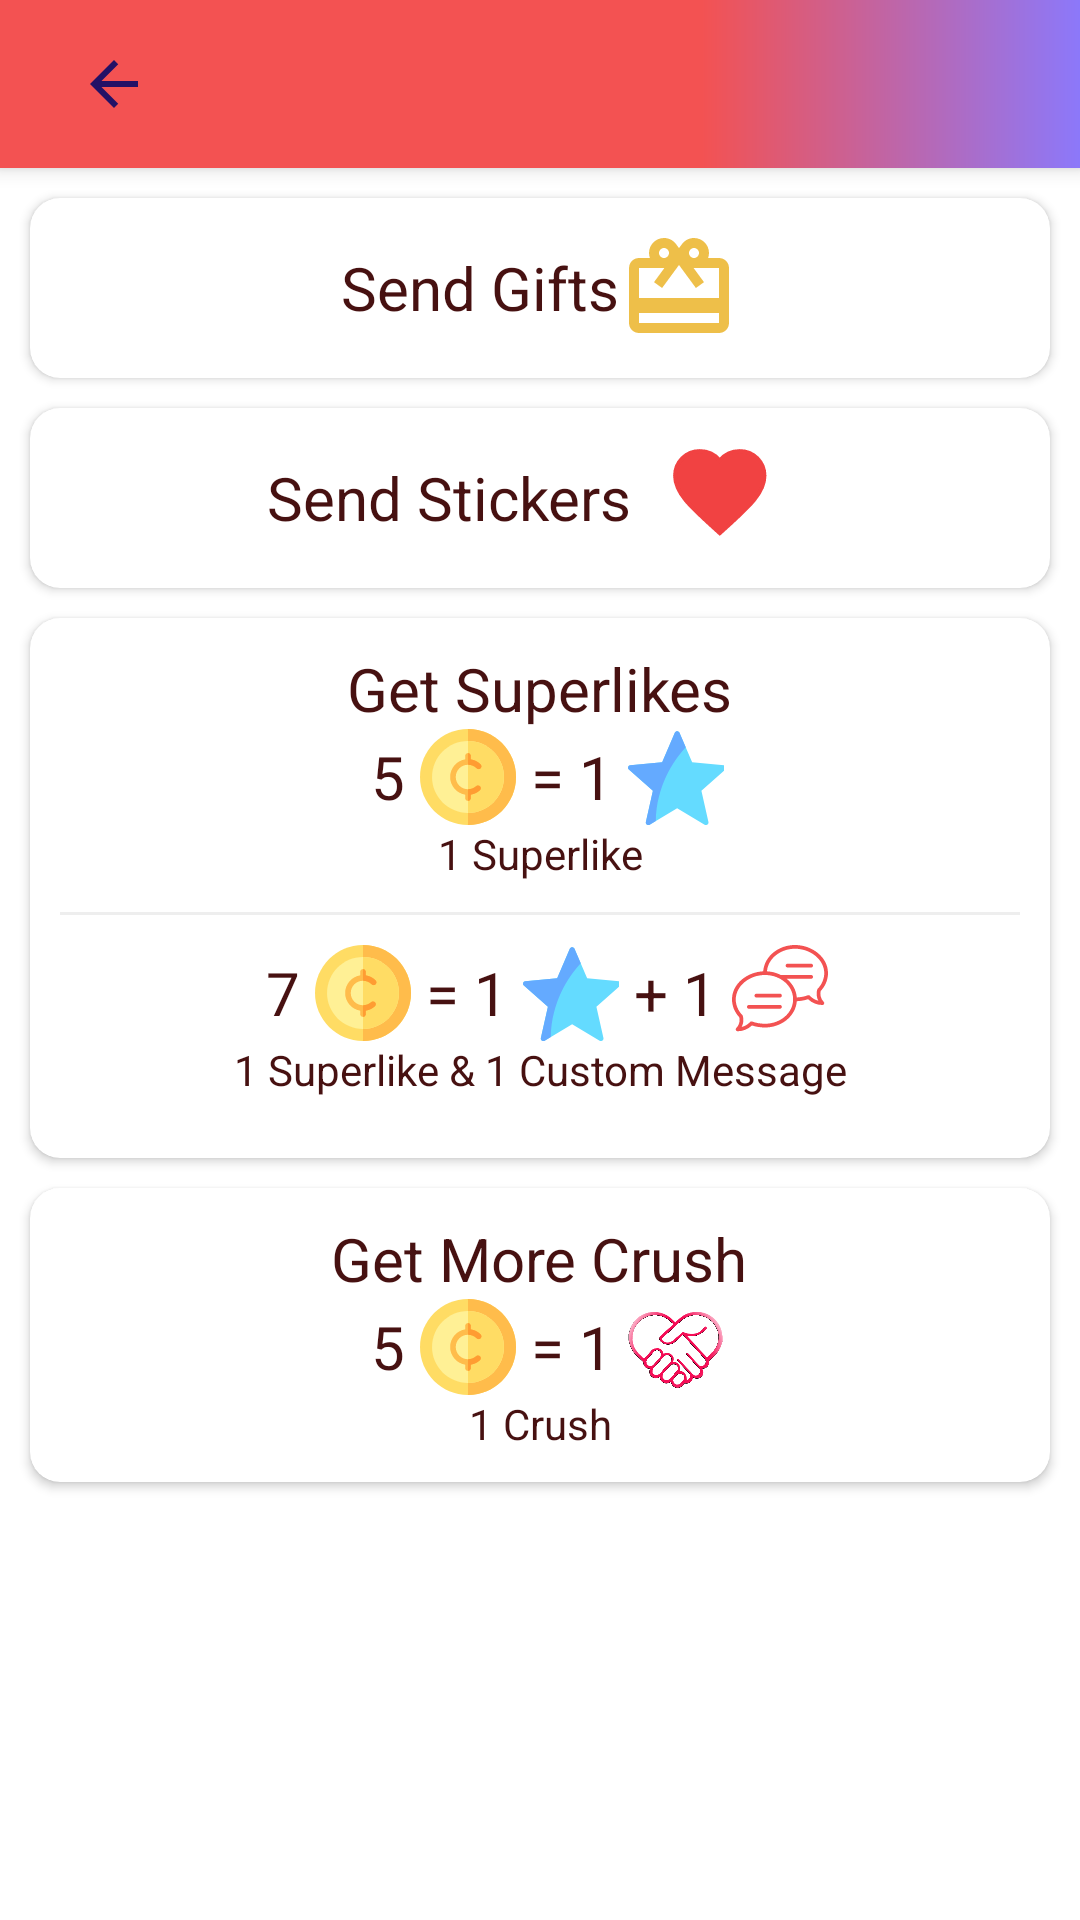

Point at icon controls on the screen. Image size 1080x1920, points as (x=x, y=y).
arrow back: (x=114, y=84)
card giftcard: (x=679, y=285)
cent: (x=468, y=777), (x=363, y=993), (x=468, y=1347)
heart: (x=720, y=492)
speech bubble: (x=780, y=988)
star: (x=676, y=778), (x=571, y=994)
